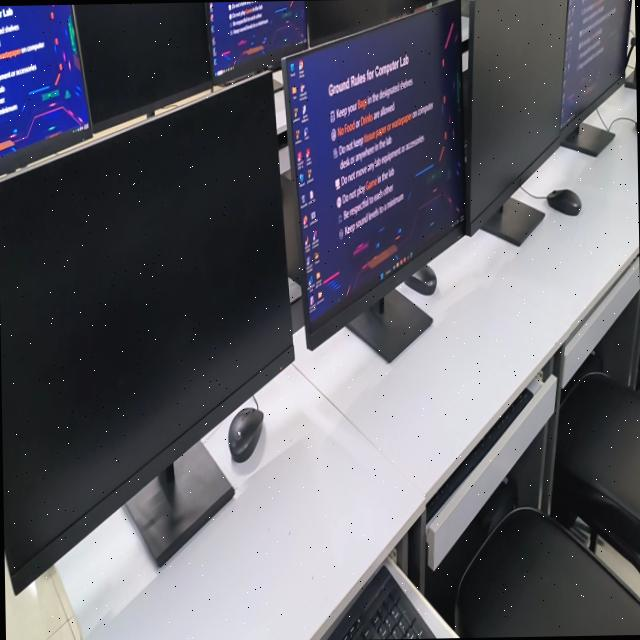Chair: (454, 507, 640, 637), (551, 372, 640, 573)
Keyboard: (425, 388, 532, 521), (326, 562, 436, 640)
Monitor: (0, 72, 293, 592), (283, 0, 464, 362), (463, 0, 566, 244), (73, 2, 213, 131), (0, 4, 89, 157), (560, 0, 631, 155), (208, 0, 307, 83), (306, 0, 437, 46)
Mouse: (227, 407, 263, 462), (404, 265, 436, 294), (546, 189, 581, 215)
